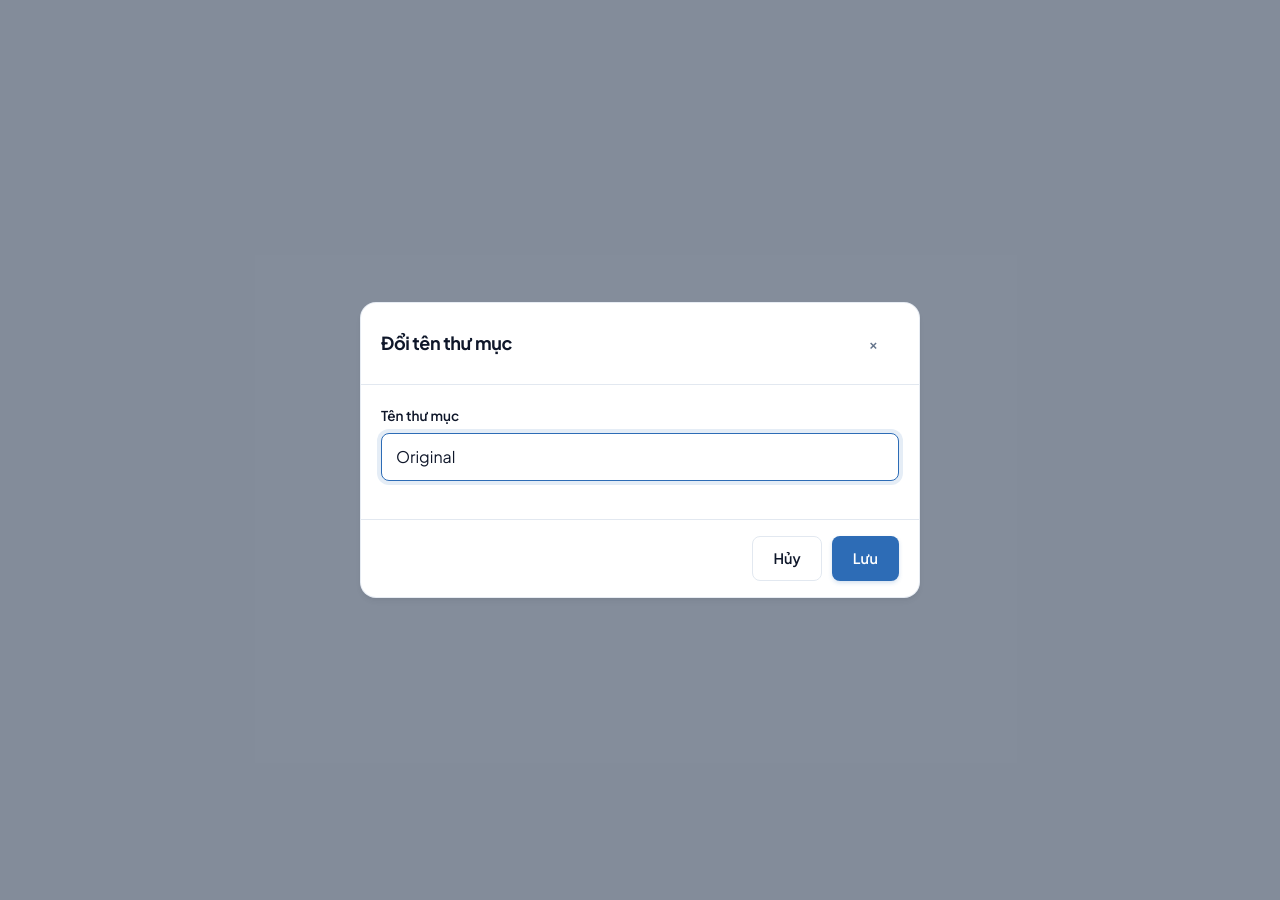
Test case: MediaFolderFormModal three modes › rename mode › disables submit when name is empty
The image size is (1280, 900).
Clear the field showing "Original": x=640, y=457 [381, 433, 899, 481]
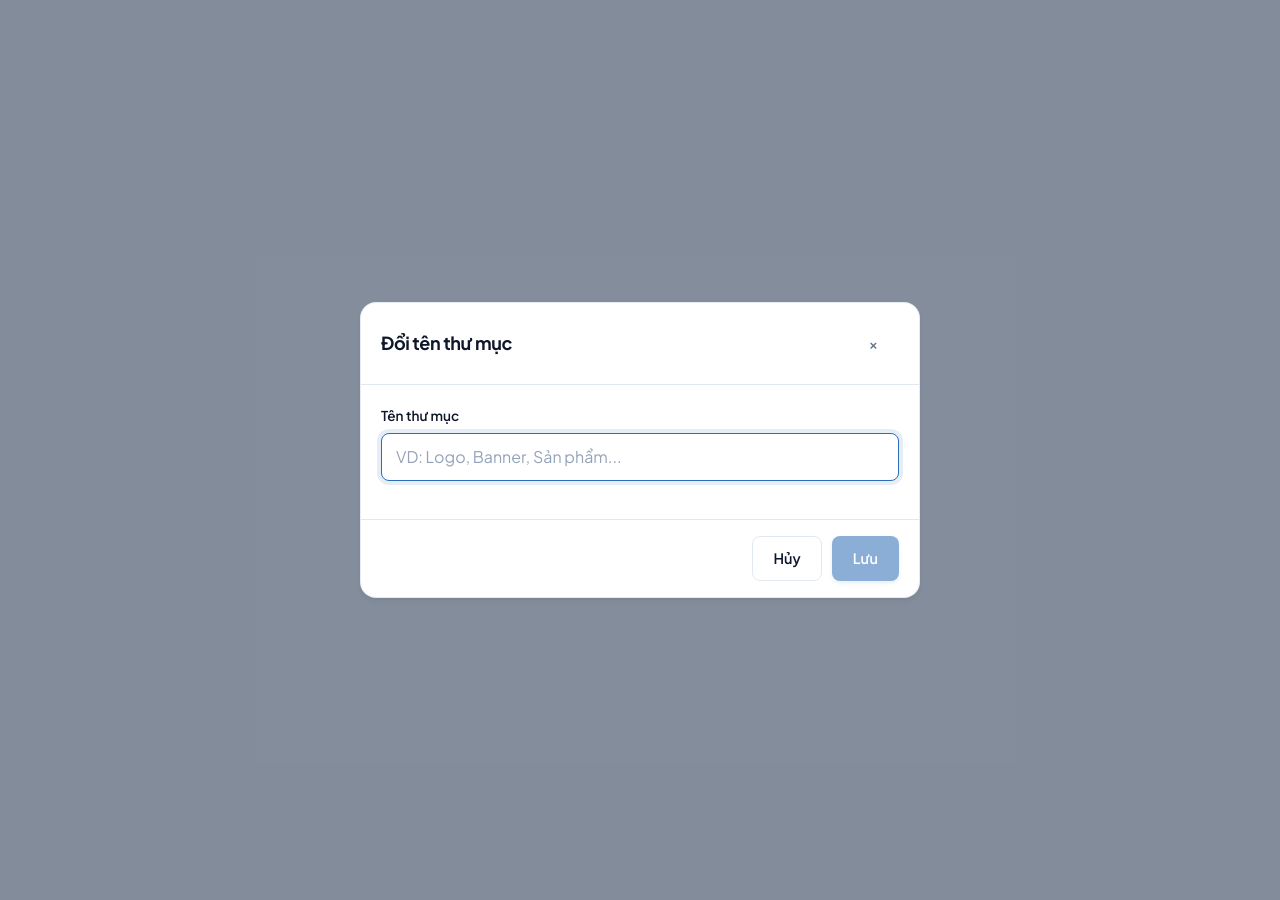
Check: the button "Lưu" is disabled, box [832, 536, 899, 581]
